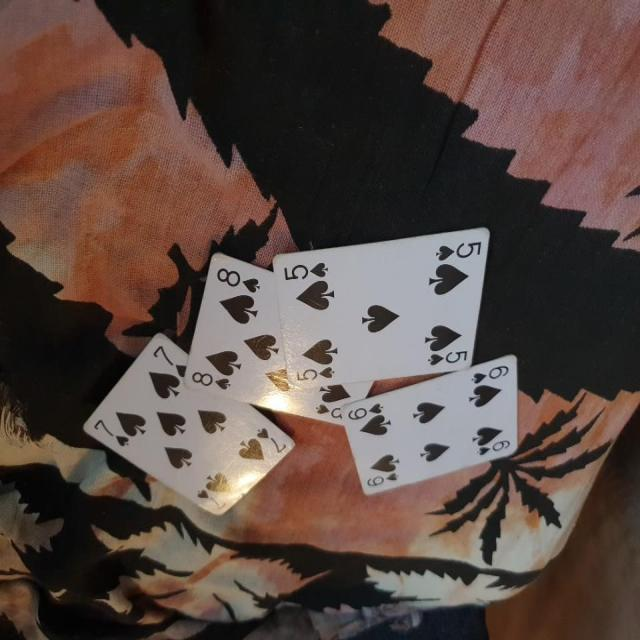5 Spades: (261, 194, 492, 391)
6 Spades: (336, 356, 528, 506)
7 Spades: (73, 328, 298, 528)
8 Spades: (180, 251, 380, 433)
